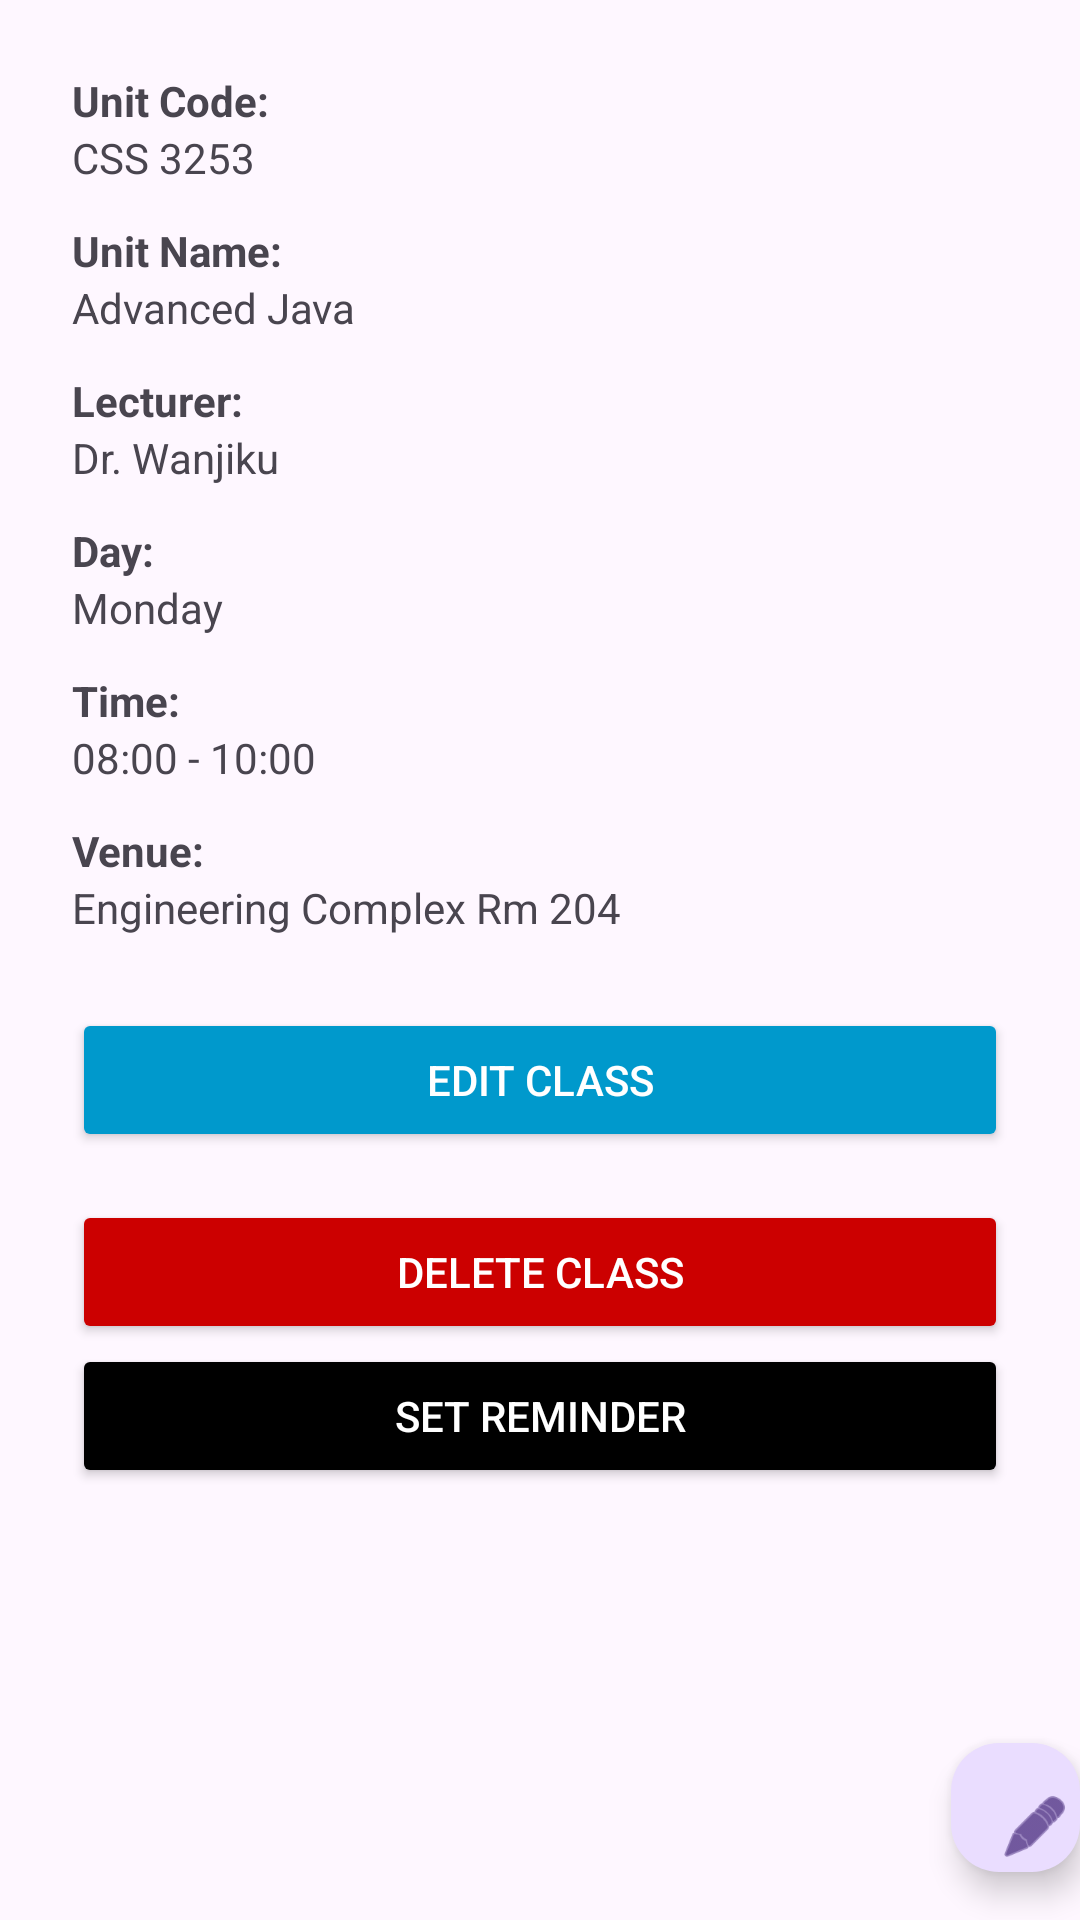

Named icons in this screenshot (1080×1920) and their bounding boxes, (x1,y1,x2,y2):
edit: (951,1743,1080,1872)
